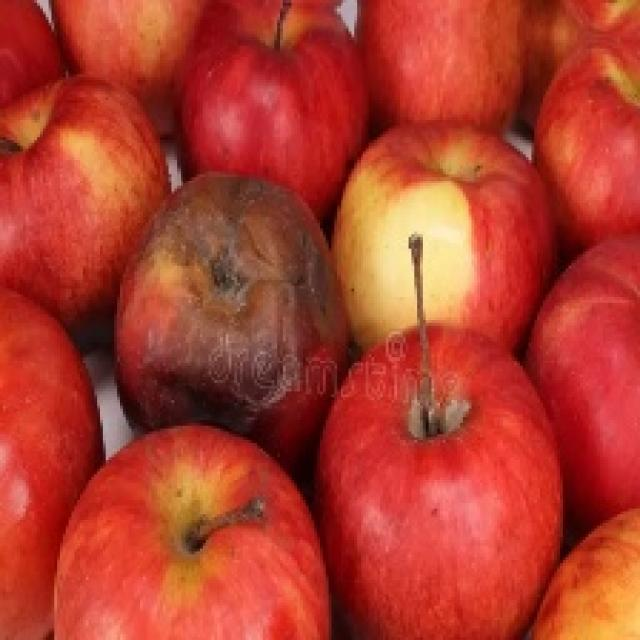rotten_apple: (115, 176, 334, 442)
